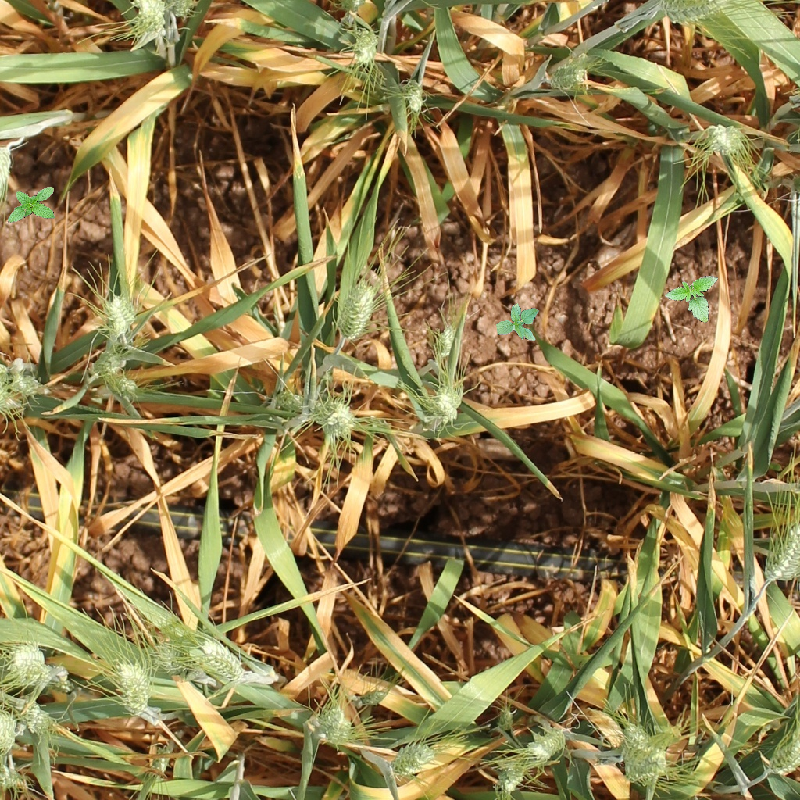spikelet: (330, 273, 381, 345), (190, 631, 250, 687), (108, 654, 158, 716), (616, 737, 675, 788), (759, 512, 799, 587), (1, 635, 57, 687), (416, 376, 468, 432), (95, 286, 144, 343), (306, 698, 359, 750), (519, 719, 574, 766), (314, 391, 362, 443), (540, 52, 594, 97), (385, 736, 440, 780), (83, 342, 134, 387), (761, 720, 799, 778), (342, 21, 384, 73), (265, 384, 311, 430), (4, 353, 49, 400), (650, 1, 727, 28), (126, 1, 174, 43), (13, 692, 55, 738), (701, 117, 748, 158), (423, 317, 461, 367), (98, 367, 145, 406), (396, 74, 429, 118), (140, 741, 176, 781), (1, 357, 22, 417), (1, 755, 30, 796), (1, 139, 15, 215), (1, 703, 20, 756), (329, 1, 373, 16)
weed: (665, 273, 716, 325), (493, 302, 540, 348), (5, 186, 58, 224)
